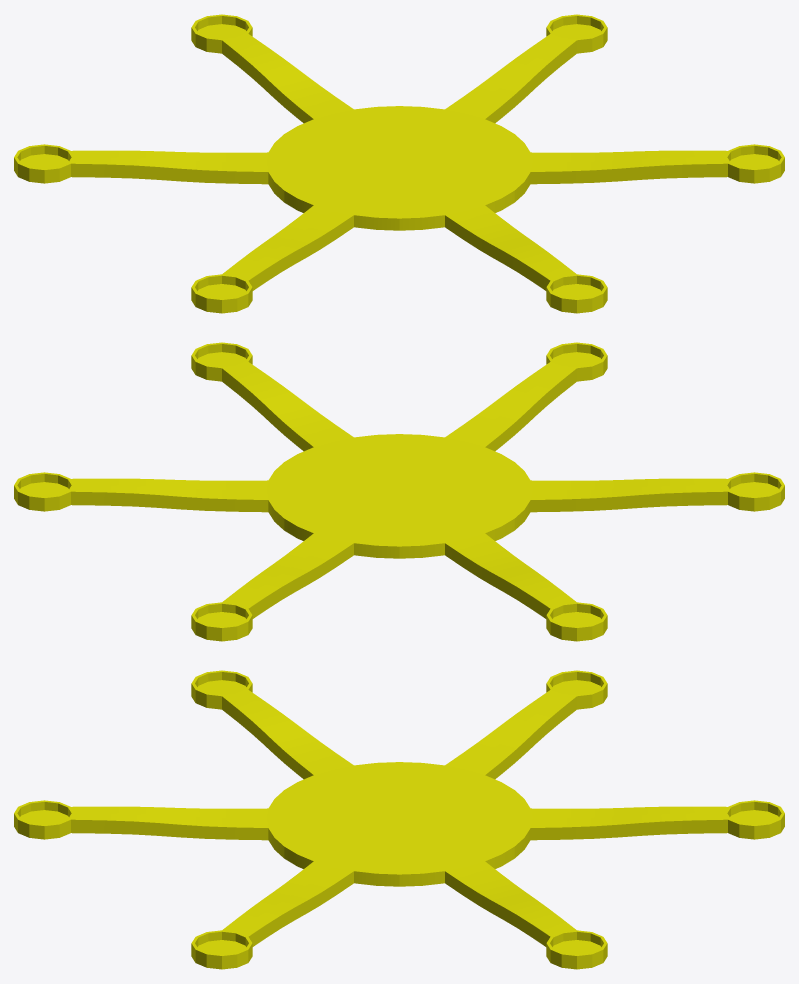
Rendered from body_16.fbx.
The picture shows the model from 3 angles, top to bottom: view 1: azimuth 30°, elevation 25°; view 2: azimuth 150°, elevation 25°; view 3: azimuth 270°, elevation 25°; orthographic projection.
Parts seen in each view (by area): view 1: pCylinder171; view 2: pCylinder171; view 3: pCylinder171.
Boxes of the visible parts, x1,y1,x2,y2 form: pCylinder171: (14,14,784,313); pCylinder171: (14,342,784,641); pCylinder171: (14,670,784,969).
Bounding box in the file's own units: 20.81 × 0.5824 × 23.73.
